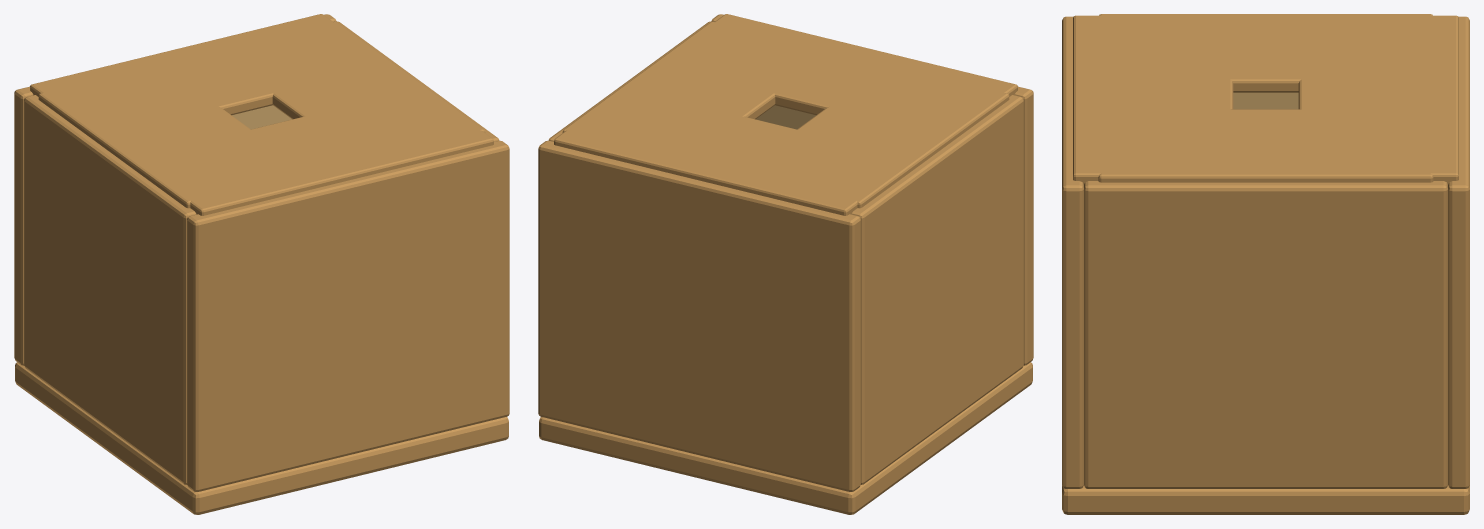
File: crate.glb
3 views of the same model, side by side, from view 1: azimuth 30°, elevation 25°; view 2: azimuth 150°, elevation 25°; view 3: azimuth 270°, elevation 25° (orthographic). The views are drawn at different scales.
Visible parts, largest first — view 1: crate_kraft, FlapW_mesh, FlapE_mesh, FlapN_mesh, FlapS_mesh, crate_inner; view 2: crate_kraft, FlapW_mesh, FlapE_mesh, FlapN_mesh, FlapS_mesh, crate_inner; view 3: crate_kraft, FlapE_mesh, FlapN_mesh, FlapS_mesh, FlapW_mesh, crate_inner.
Boxes of the visible parts, left/top/right/bottom form: crate_kraft: left=14, top=14, right=509, bottom=514; FlapW_mesh: left=38, top=64, right=307, bottom=208; FlapE_mesh: left=216, top=21, right=485, bottom=158; FlapN_mesh: left=30, top=14, right=389, bottom=133; FlapS_mesh: left=140, top=88, right=493, bottom=215; crate_inner: left=232, top=105, right=291, bottom=129; crate_kraft: left=538, top=14, right=1033, bottom=514; FlapW_mesh: left=740, top=64, right=1009, bottom=208; FlapE_mesh: left=562, top=21, right=831, bottom=158; FlapN_mesh: left=554, top=88, right=911, bottom=215; FlapS_mesh: left=658, top=14, right=1017, bottom=133; crate_inner: left=756, top=105, right=815, bottom=129; crate_kraft: left=1062, top=16, right=1469, bottom=514; FlapE_mesh: left=1098, top=109, right=1433, bottom=182; FlapN_mesh: left=1298, top=15, right=1458, bottom=184; FlapS_mesh: left=1073, top=15, right=1233, bottom=184; FlapW_mesh: left=1099, top=14, right=1432, bottom=92; crate_inner: left=1233, top=92, right=1298, bottom=109.
Size of the model in its own units: 0.56 by 0.51 by 0.56.
